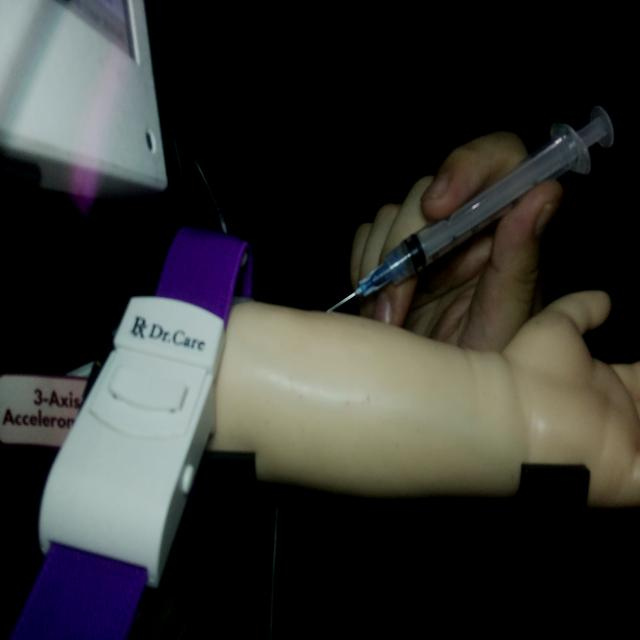21 degrees: (323, 101, 618, 316)
